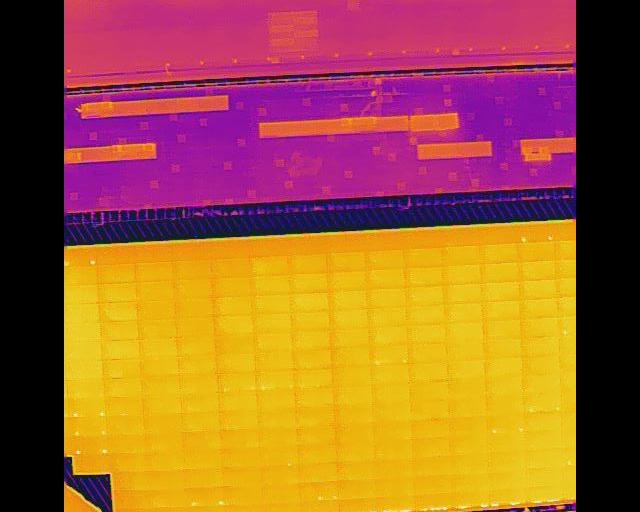Cell: (65, 246, 96, 264)
Cell-Multi: (183, 486, 224, 505), (488, 412, 523, 434), (72, 416, 108, 437), (514, 224, 553, 243), (300, 481, 338, 500), (523, 392, 561, 411), (413, 492, 451, 510), (74, 435, 109, 454), (72, 397, 106, 415), (338, 497, 375, 512), (300, 499, 338, 512)
No-Anomaly: (142, 372, 180, 395), (184, 467, 224, 488), (327, 250, 367, 271), (291, 310, 331, 331), (288, 272, 328, 293), (180, 372, 218, 394), (177, 335, 215, 357), (100, 300, 138, 322), (97, 262, 135, 284), (369, 343, 408, 364), (333, 385, 372, 406), (255, 370, 294, 391), (253, 332, 292, 353), (522, 354, 561, 375), (101, 319, 138, 341), (406, 323, 446, 343), (520, 317, 560, 337), (296, 424, 336, 444), (293, 367, 333, 387), (290, 292, 330, 312), (287, 253, 327, 273), (214, 314, 254, 334), (213, 295, 253, 315), (450, 434, 488, 455), (443, 263, 481, 284), (518, 259, 556, 280), (144, 412, 182, 433), (141, 356, 179, 377), (136, 279, 174, 300), (98, 281, 136, 302), (96, 244, 134, 265), (298, 443, 336, 464), (450, 416, 489, 436), (406, 303, 445, 323), (404, 247, 443, 267), (375, 476, 414, 496), (180, 392, 219, 412), (173, 259, 212, 279), (328, 270, 367, 290), (327, 233, 366, 253), (298, 462, 337, 482), (295, 387, 334, 407), (293, 349, 332, 369), (259, 427, 298, 447), (256, 390, 295, 410), (249, 237, 288, 257), (222, 446, 261, 466), (215, 333, 254, 353), (176, 278, 213, 299), (102, 339, 139, 360), (254, 313, 291, 334), (253, 293, 290, 314), (252, 273, 289, 294), (251, 255, 288, 276), (485, 357, 522, 378), (483, 319, 520, 340), (450, 454, 490, 473), (447, 359, 485, 379), (447, 339, 485, 359), (410, 379, 448, 399), (404, 228, 442, 248), (372, 383, 410, 403), (212, 257, 250, 277), (183, 430, 221, 450), (182, 411, 220, 431), (178, 355, 216, 375), (176, 317, 214, 337), (145, 431, 183, 451), (138, 318, 176, 338), (138, 299, 176, 319), (103, 358, 141, 378), (336, 422, 374, 442), (330, 308, 368, 328), (255, 351, 293, 371), (224, 466, 262, 486), (218, 391, 256, 411), (217, 353, 255, 373), (483, 300, 521, 320), (482, 281, 520, 301), (338, 478, 376, 498), (136, 261, 172, 282), (481, 262, 517, 283), (412, 436, 451, 455), (411, 399, 450, 418), (408, 342, 447, 361), (375, 457, 414, 476), (367, 307, 406, 326), (367, 288, 406, 307), (212, 277, 251, 296), (330, 327, 369, 346), (261, 483, 300, 502), (219, 410, 258, 429), (449, 378, 486, 398), (445, 301, 482, 321), (442, 245, 479, 265), (374, 421, 411, 441), (372, 364, 409, 384), (368, 268, 405, 288), (520, 298, 557, 318), (176, 297, 213, 317), (517, 241, 554, 261), (146, 450, 183, 470), (332, 346, 369, 366), (488, 469, 525, 489), (486, 377, 523, 397), (141, 337, 176, 358), (446, 321, 484, 340), (443, 283, 481, 302), (411, 417, 449, 436), (409, 361, 447, 380), (406, 285, 444, 304), (405, 267, 443, 286), (374, 440, 412, 459), (373, 402, 411, 421), (367, 250, 405, 269), (184, 449, 222, 468), (336, 460, 374, 479), (336, 441, 374, 460), (333, 366, 371, 385), (292, 330, 330, 349), (261, 446, 299, 465), (261, 465, 299, 484), (258, 408, 296, 427), (525, 448, 563, 467), (221, 429, 259, 448), (218, 372, 256, 391), (486, 395, 524, 414), (414, 473, 450, 493), (172, 241, 212, 259), (144, 393, 180, 413), (295, 407, 335, 425), (522, 337, 562, 355), (480, 243, 516, 263), (413, 455, 450, 474), (212, 239, 249, 258), (519, 279, 556, 298), (135, 244, 172, 263), (109, 433, 146, 452), (106, 396, 143, 415), (105, 377, 142, 396), (75, 453, 112, 472), (526, 429, 563, 448), (525, 411, 562, 430), (225, 485, 262, 504), (484, 338, 521, 357), (288, 236, 327, 254), (148, 469, 183, 489), (112, 452, 147, 472), (490, 432, 525, 452), (450, 473, 488, 491), (443, 227, 479, 246), (366, 231, 404, 249), (108, 415, 144, 434), (329, 289, 367, 307), (526, 467, 564, 485), (479, 226, 515, 245), (450, 397, 487, 415), (369, 326, 406, 344), (335, 404, 372, 422), (523, 374, 560, 392), (114, 471, 149, 490), (489, 451, 524, 470), (115, 489, 150, 507), (71, 378, 104, 397), (149, 489, 183, 507), (68, 283, 98, 303), (71, 340, 102, 359), (70, 321, 101, 340), (69, 302, 100, 321), (72, 359, 102, 378), (67, 265, 97, 284), (225, 503, 262, 512)
Unclassified: (488, 486, 525, 505), (450, 489, 488, 507), (525, 485, 563, 502), (376, 495, 414, 511), (261, 501, 300, 512), (183, 505, 225, 512), (151, 505, 184, 512), (114, 507, 150, 512)
